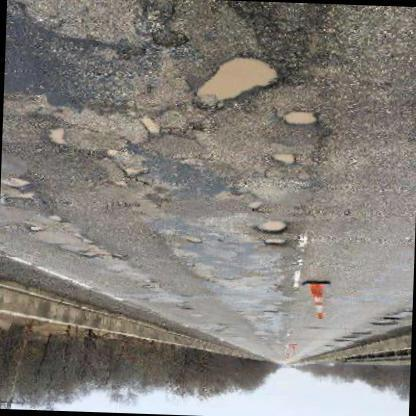pothole: (191, 49, 280, 110), (3, 170, 39, 199), (257, 214, 290, 244), (284, 108, 326, 127), (48, 121, 68, 151), (273, 149, 299, 169)
